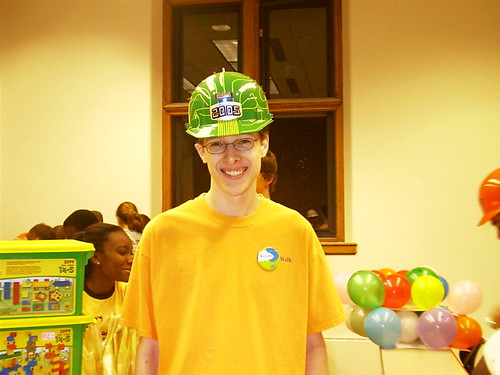person hardhat: (184, 68, 274, 196)
